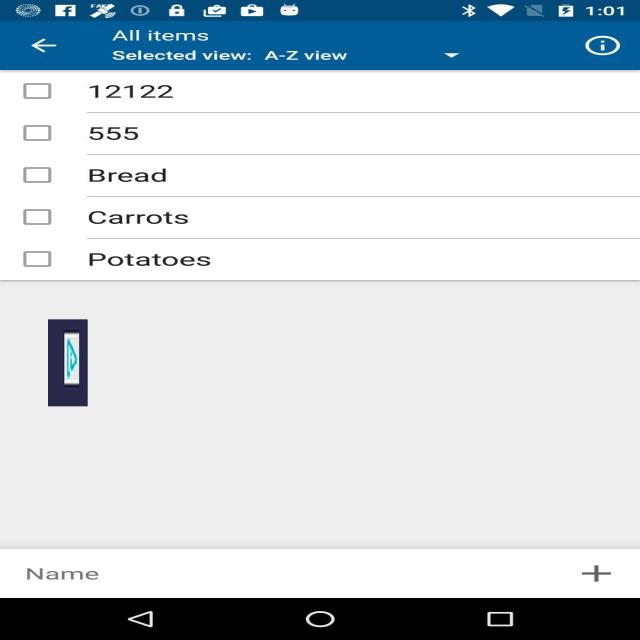sneaking: (48, 319, 88, 406)
